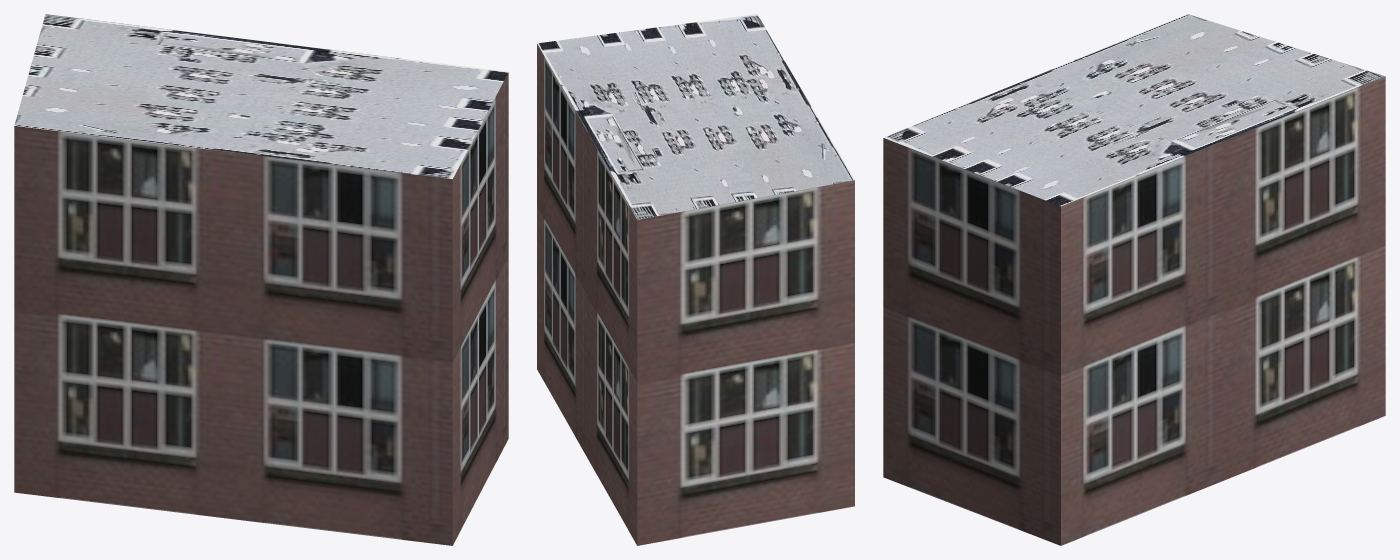
Rendered from ResTex__1301.fbx.
3 views of the same model, side by side, from view 1: azimuth 30°, elevation 25°; view 2: azimuth 150°, elevation 25°; view 3: azimuth 270°, elevation 25° (orthographic). The views are drawn at different scales.
Parts seen in each view (by area): view 1: CityEngineMaterial_12_m, CityEngineMaterial_2_m; view 2: CityEngineMaterial_12_m, CityEngineMaterial_2_m; view 3: CityEngineMaterial_12_m, CityEngineMaterial_2_m.
Part boxes in pixels (<box>): CityEngineMaterial_12_m: <box>14,72,508,545</box>; CityEngineMaterial_2_m: <box>14,14,508,178</box>; CityEngineMaterial_12_m: <box>537,44,854,545</box>; CityEngineMaterial_2_m: <box>537,14,854,219</box>; CityEngineMaterial_12_m: <box>883,76,1385,545</box>; CityEngineMaterial_2_m: <box>884,14,1384,206</box>.
Bounding box in the file's own units: 7.29 × 6 × 8.04.
2 materials, 2 textured.
